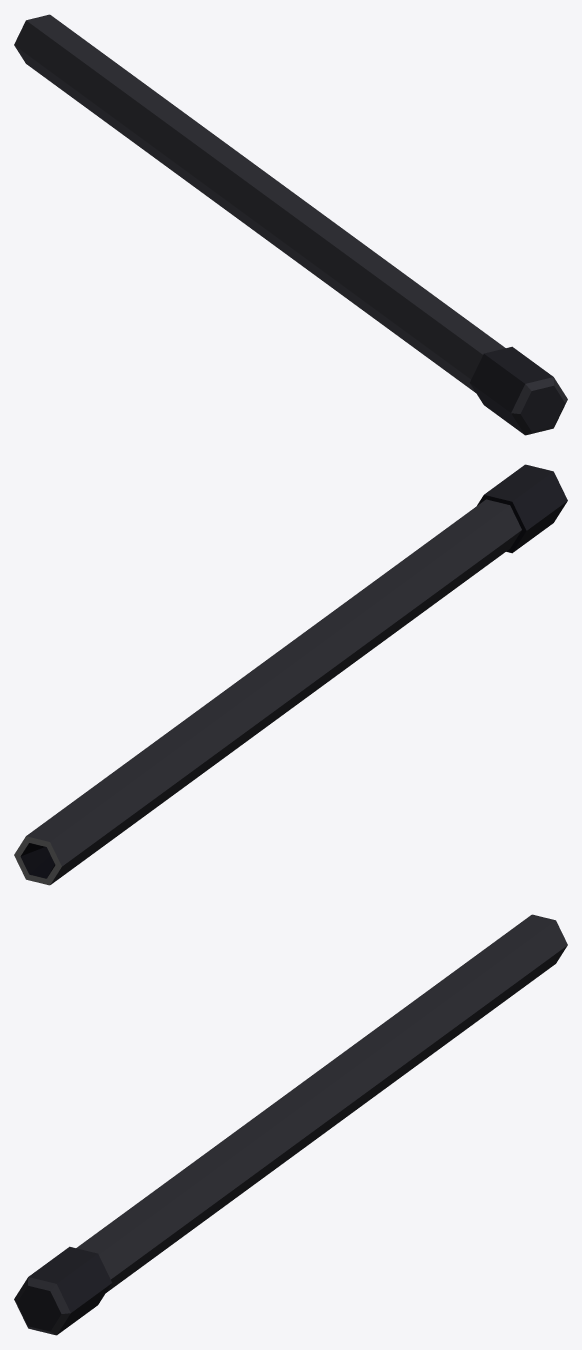
Rendered from MW1_Magazine_12ga_8Shell.fbx.
3 renders of one model, top to bottom at view 1: azimuth 30°, elevation 25°; view 2: azimuth 150°, elevation 25°; view 3: azimuth 330°, elevation 25°, orthographic.
Visible parts, largest first — view 1: Magazine_12ga_8Shell; view 2: Magazine_12ga_8Shell; view 3: Magazine_12ga_8Shell.
Boxes of the visible parts, bbox=[...] form: Magazine_12ga_8Shell: bbox=[14, 14, 567, 435]; Magazine_12ga_8Shell: bbox=[14, 464, 567, 885]; Magazine_12ga_8Shell: bbox=[14, 914, 567, 1335].
Bounding box in the file's own units: 3.05 × 2.64 × 46.88.
